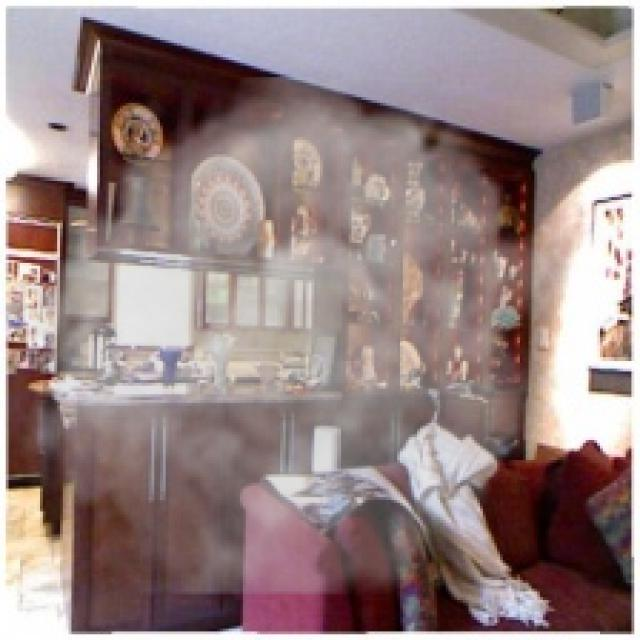smoke: (0, 77, 569, 594)
